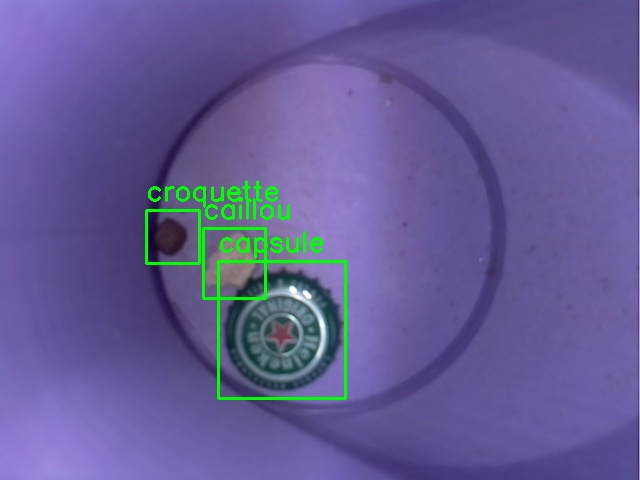caillou: (203, 228, 265, 298)
capsule: (218, 261, 345, 398)
croquette: (146, 210, 199, 263)
